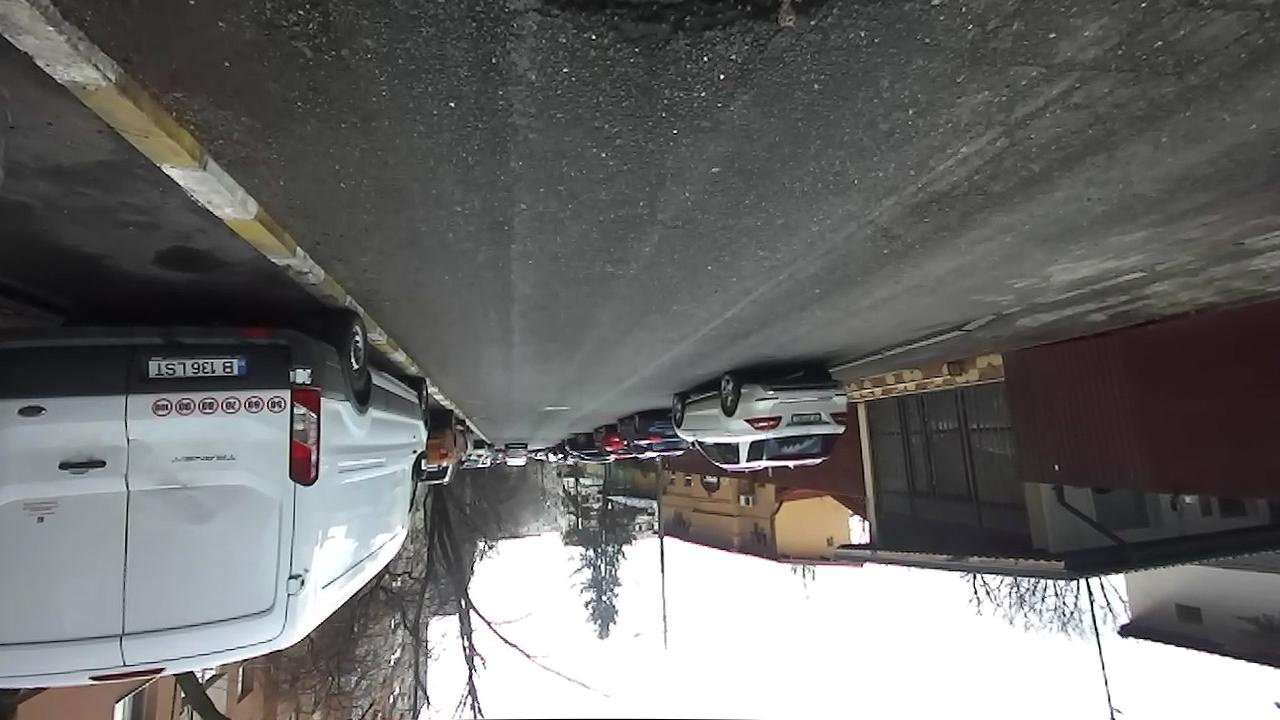pothole: (480, 0, 860, 48)
